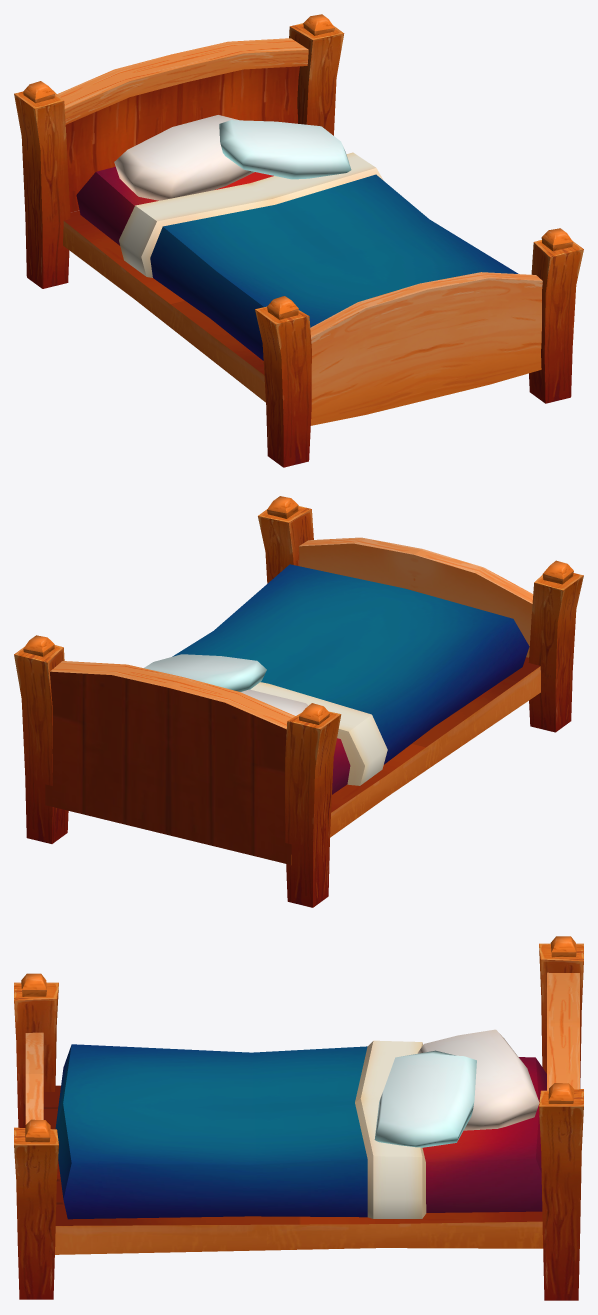
Rendered from bedGenericLv3.fbx.
The picture shows the model from 3 angles, top to bottom: view 1: azimuth 30°, elevation 25°; view 2: azimuth 150°, elevation 25°; view 3: azimuth 270°, elevation 25°; orthographic projection. The views are drawn at different scales.
Parts seen in each view (by area): view 1: pCube124, pCube125, pCube135, pCube194, pCube196, pCube193, pCube195, pCube192, pCube191; view 2: pCube125, pCube124, pCube135, pCube194, pCube193, pCube191, pCube195, pCube192, pCube196, pPyramid8; view 3: pCube124, pCube125, pCube195, pCube191, pCube192, pCube196, pCube193, pCube194, pCube135, pPyramid8, pPyramid1, pPyramid2 (+1 smaller).
Part boxes in pixels (<box>): pCube124: <box>76,152,518,360</box>; pCube125: <box>57,38,308,402</box>; pCube135: <box>310,272,542,425</box>; pCube194: <box>14,86,70,288</box>; pCube196: <box>114,115,254,200</box>; pCube193: <box>255,306,311,467</box>; pCube195: <box>219,120,351,179</box>; pCube192: <box>529,240,583,403</box>; pCube191: <box>289,23,344,135</box>; pCube125: <box>45,657,540,865</box>; pCube124: <box>172,564,529,794</box>; pCube135: <box>298,537,533,657</box>; pCube194: <box>285,711,341,907</box>; pCube193: <box>528,573,583,732</box>; pCube191: <box>14,645,68,843</box>; pCube195: <box>144,654,266,691</box>; pCube192: <box>258,506,313,583</box>; pCube196: <box>240,689,308,715</box>; pPyramid8: <box>542,560,573,584</box>; pCube124: <box>55,1040,546,1219</box>; pCube125: <box>43,972,579,1254</box>; pCube195: <box>374,1050,476,1147</box>; pCube191: <box>539,1089,583,1300</box>; pCube192: <box>14,1127,58,1299</box>; pCube196: <box>418,1029,539,1130</box>; pCube193: <box>14,982,58,1127</box>; pCube194: <box>539,943,583,1088</box>; pCube135: <box>25,1032,43,1124</box>; pPyramid8: <box>21,973,46,996</box>; pPyramid1: <box>25,1119,50,1142</box>; pPyramid2: <box>548,1083,574,1103</box>.
Bounding box in the file's own units: 6.01 × 3.64 × 8.82.
